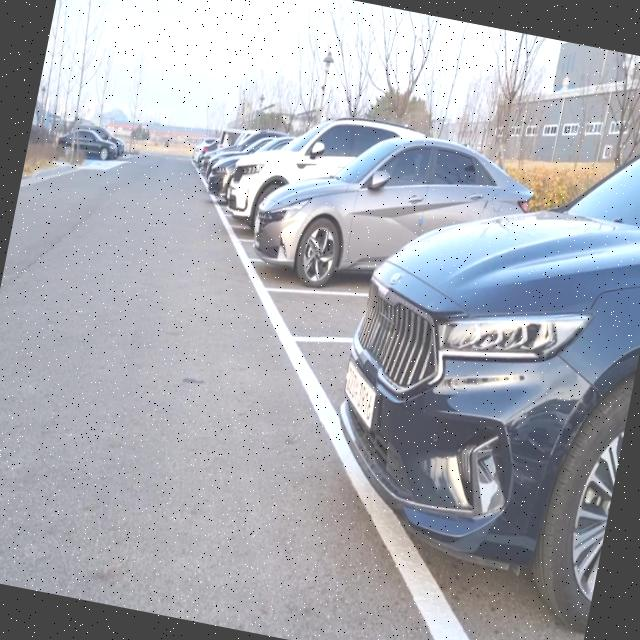empty: (258, 206, 384, 372)
occupied: (306, 149, 640, 640), (240, 138, 398, 320), (54, 126, 120, 174)
